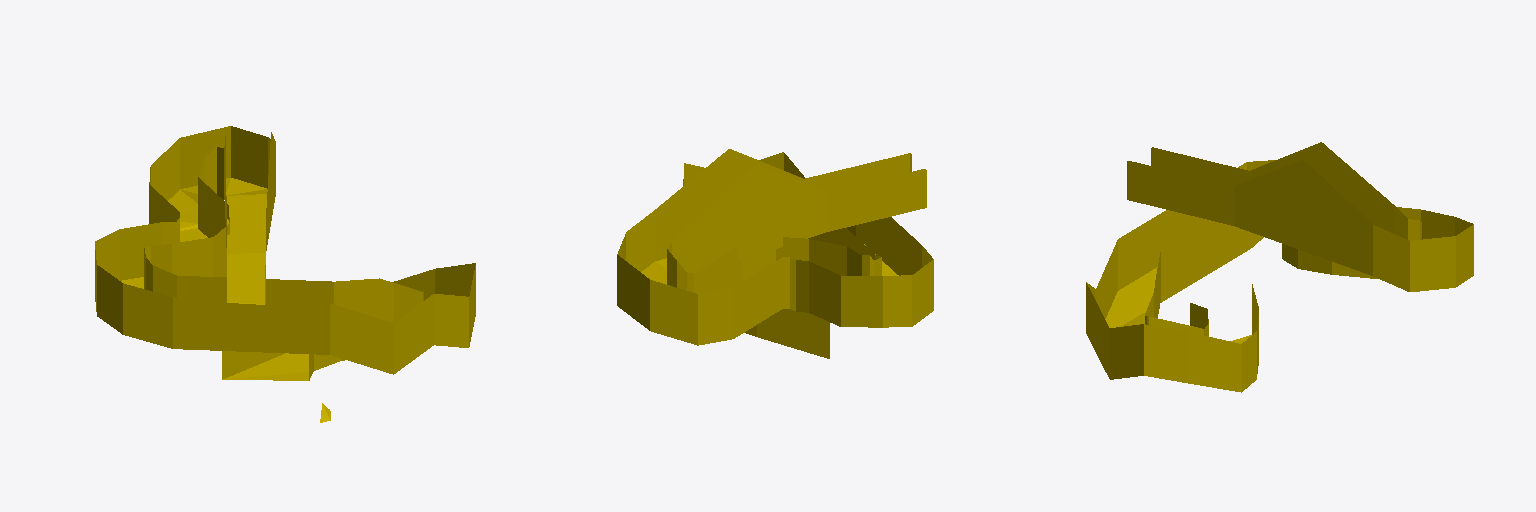
Rendered from fall.obj.
3 views of the same model, side by side, from view 1: azimuth 30°, elevation 25°; view 2: azimuth 150°, elevation 25°; view 3: azimuth 270°, elevation 25° (orthographic).
Parts seen in each view (by area): view 1: fall_Plane.006; view 2: fall_Plane.006; view 3: fall_Plane.006.
Boxes of the visible parts, box(x1,y1,x2,y2) form: fall_Plane.006: box(95, 126, 475, 422); fall_Plane.006: box(617, 149, 933, 358); fall_Plane.006: box(1086, 142, 1473, 392).
Size of the model in its own units: 37.91 by 26.16 by 41.95.